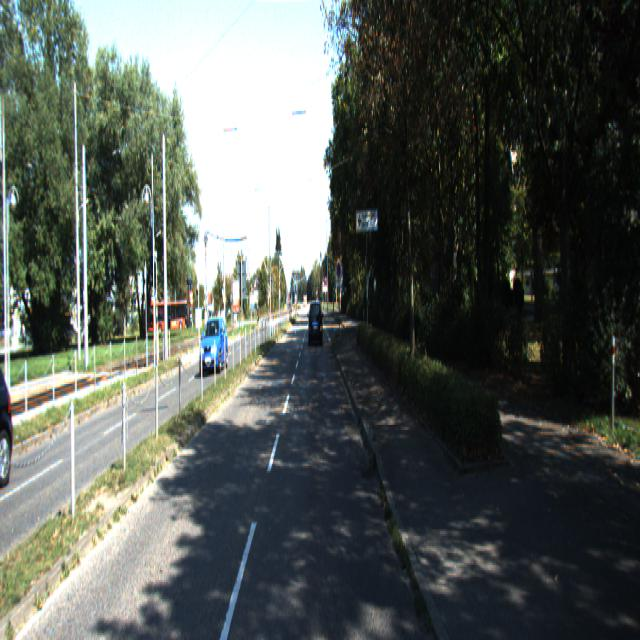Car: (0, 349, 18, 484), (200, 315, 228, 374), (309, 301, 323, 348)
